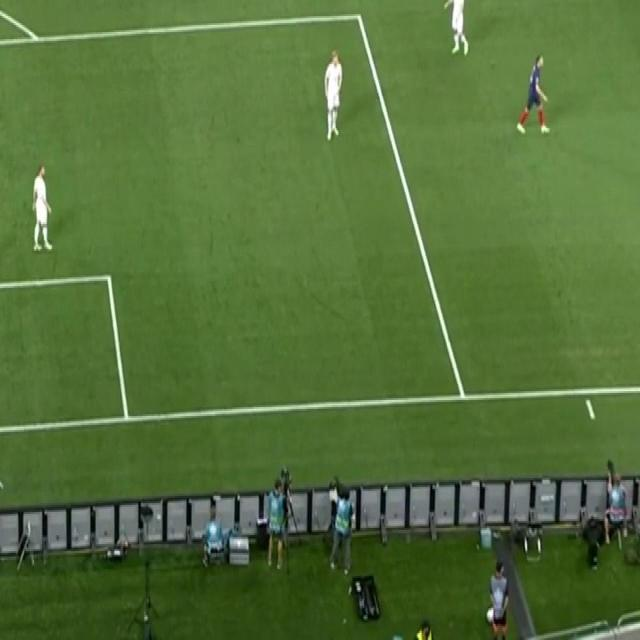player-white: (517, 51, 551, 137), (36, 168, 58, 256), (324, 48, 344, 141), (443, 0, 469, 57)
